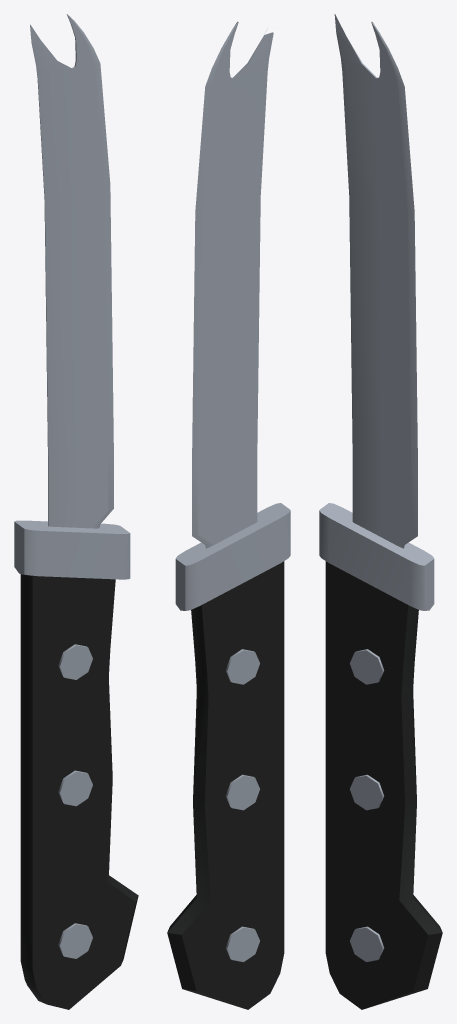
The model's file is Tomato Knife.glb.
3 renders of one model, left to right at view 1: azimuth 30°, elevation 25°; view 2: azimuth 210°, elevation 25°; view 3: azimuth 330°, elevation 25°, orthographic.
Parts seen in each view (by area): view 1: knife_tomato_knife_Cube.016; view 2: knife_tomato_knife_Cube.016; view 3: knife_tomato_knife_Cube.016.
Boxes of the visible parts, box(x1,y1,x2,y2) form: knife_tomato_knife_Cube.016: box(14, 14, 138, 1009); knife_tomato_knife_Cube.016: box(167, 21, 290, 1009); knife_tomato_knife_Cube.016: box(319, 14, 442, 1009).
Bounding box in the file's own units: 0.6414 × 5.08 × 0.1374.
1 material, 1 textured.
